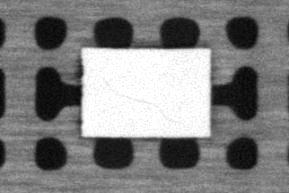DIE_CRACK: (102, 76, 183, 124)
